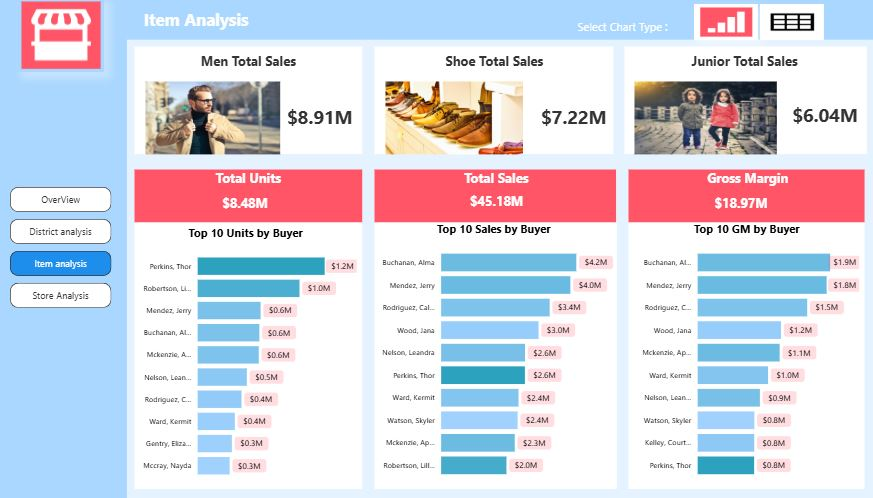

The page's visual inventory and layout, read from the dashboard file:
{"tool":"powerbi","page":{"name":"Item analysis","canvas":[1280,720],"ordinal":2},"visuals":[{"type":"shape","box":[0,0,190.1,1399.7],"z":0},{"type":"textbox","box":[196.1,242.3,338,62.4],"z":0,"group":"g1"},{"type":"textbox","box":[549.9,242.3,343.5,54.8],"z":0,"group":"g2"},{"type":"textbox","box":[916,242.3,333.4,62.1],"z":0,"group":"g3"},{"type":"shape","box":[190.1,0,1484.6,60.5],"z":1000},{"type":"card","fields":{"Values":["Sales.TotalSales"]},"box":[550.1,266.9,344.6,54.3],"z":1000,"group":"g2"},{"type":"card","fields":{"Values":["Sales.TotalUnits"]},"box":[200.5,273.4,319.9,47.7],"z":1000,"group":"g1"},{"type":"card","fields":{"Values":["Sum(Sales.Sum_GrossMarginAmount)"]},"box":[913.7,273.6,320,47.3],"z":1000,"group":"g3"},{"type":"image","box":[196.1,65.4,338,164.5],"z":2000},{"type":"textbox","box":[196.1,73.2,338,41.7],"z":3000},{"type":"card","fields":{"Values":["Sales.Mens Sales"]},"box":[400,114.9,134.1,114.9],"z":4000},{"type":"image","box":[542,65.4,353.8,164.5],"z":5000},{"type":"image","box":[901.4,65.4,359.4,164.5],"z":6000},{"type":"image","box":[196.1,242.3,338,469.9],"z":7000},{"type":"image","box":[542,242.3,359.4,469.9],"z":8000},{"type":"image","box":[907,242.3,350.4,469.9],"z":9000},{"type":"card","fields":{"Values":["Sales.Shoes Sales"]},"box":[766.2,114.9,134.1,114.9],"z":10000},{"type":"textbox","box":[549.9,73.2,338,41.7],"z":11000},{"type":"image","box":[916.1,114.9,215.2,114.9],"z":12000},{"type":"card","fields":{"Values":["Sales.Juniors Sales"]},"box":[1131.3,105.9,126.2,123.9],"z":13000},{"type":"textbox","box":[901.4,73.2,356.1,41.7],"z":14000},{"type":"image","box":[212.3,114.9,204.3,114.9],"z":15000},{"type":"image","box":[196.1,242.3,338,85.6],"z":19000},{"type":"image","box":[557.7,114.9,208.5,114.9],"z":20000},{"type":"image","box":[542,242.3,358.3,85.6],"z":21000},{"type":"image","box":[907,242.3,350.4,85.6],"z":22000},{"type":"group","id":"g1","title":"Group 1","box":[196.1,242.3,338,78.9],"z":23000},{"type":"group","id":"g2","title":"Group 2","box":[549.9,242.3,343.7,78.9],"z":24000},{"type":"group","id":"g3","title":"Group 3","box":[913.7,242.3,335.7,78.6],"z":25000},{"type":"clusteredBarChart","title":"Top 10 Units by Buyer","fields":{"Category":["Item.Buyer"],"Y":["Sales.TotalUnits"]},"box":[196.1,326.8,330.1,377.5],"z":26000},{"type":"clusteredBarChart","title":"Top 10 Sales by Buyer","fields":{"Category":["Item.Buyer"],"Y":["Sales.TotalSales"]},"box":[542,321.1,353.8,383.1],"z":27000},{"type":"clusteredBarChart","title":"Top 10 GM by Buyer","fields":{"Category":["Item.Buyer"],"Y":["Sum(Sales.Sum_GrossMarginAmount)"]},"box":[916.1,321.1,333.5,383.1],"z":28000},{"type":"textbox","box":[187.2,8.6,204.5,41.8],"z":29000},{"type":"textbox","box":[833.8,23.7,172.4,41.7],"z":30000},{"type":"image","box":[1006.6,8.6,92.2,51.8],"z":31000},{"type":"image","box":[1101.6,8.6,92.2,51.8],"z":32000},{"type":"pageNavigator","box":[21.6,272.2,146.9,175.7],"z":35000},{"type":"image","box":[33.1,0,123.8,106.6],"z":35001}]}

Visuals, with their boxes in screenshot pixels (x1, y1, x2, y2), scaled from the page's 1280x720 canvas onto the 873x498 screenshot:
shape: [x1=0, y1=0, x2=130, y2=497]
textbox: [x1=134, y1=168, x2=364, y2=211]
textbox: [x1=375, y1=168, x2=609, y2=205]
textbox: [x1=625, y1=168, x2=852, y2=211]
shape: [x1=130, y1=0, x2=872, y2=42]
card - Sales.TotalSales: [x1=375, y1=185, x2=610, y2=222]
card - Sales.TotalUnits: [x1=137, y1=189, x2=355, y2=222]
card - Sum(Sales.Sum_GrossMarginAmount): [x1=623, y1=189, x2=841, y2=222]
image: [x1=134, y1=45, x2=364, y2=159]
textbox: [x1=134, y1=51, x2=364, y2=79]
card - Sales.Mens Sales: [x1=273, y1=79, x2=364, y2=159]
image: [x1=370, y1=45, x2=611, y2=159]
image: [x1=615, y1=45, x2=860, y2=159]
image: [x1=134, y1=168, x2=364, y2=493]
image: [x1=370, y1=168, x2=615, y2=493]
image: [x1=619, y1=168, x2=858, y2=493]
card - Sales.Shoes Sales: [x1=523, y1=79, x2=614, y2=159]
textbox: [x1=375, y1=51, x2=606, y2=79]
image: [x1=625, y1=79, x2=772, y2=159]
card - Sales.Juniors Sales: [x1=772, y1=73, x2=858, y2=159]
textbox: [x1=615, y1=51, x2=858, y2=79]
image: [x1=145, y1=79, x2=284, y2=159]
image: [x1=134, y1=168, x2=364, y2=227]
image: [x1=380, y1=79, x2=523, y2=159]
image: [x1=370, y1=168, x2=614, y2=227]
image: [x1=619, y1=168, x2=858, y2=227]
"Group 1" group: [x1=134, y1=168, x2=364, y2=222]
"Group 2" group: [x1=375, y1=168, x2=609, y2=222]
"Group 3" group: [x1=623, y1=168, x2=852, y2=222]
"Top 10 Units by Buyer" clusteredBarChart: [x1=134, y1=226, x2=359, y2=487]
"Top 10 Sales by Buyer" clusteredBarChart: [x1=370, y1=222, x2=611, y2=487]
"Top 10 GM by Buyer" clusteredBarChart: [x1=625, y1=222, x2=852, y2=487]
textbox: [x1=128, y1=6, x2=267, y2=35]
textbox: [x1=569, y1=16, x2=686, y2=45]
image: [x1=687, y1=6, x2=749, y2=42]
image: [x1=751, y1=6, x2=814, y2=42]
pageNavigator: [x1=15, y1=188, x2=115, y2=310]
image: [x1=23, y1=0, x2=107, y2=74]
